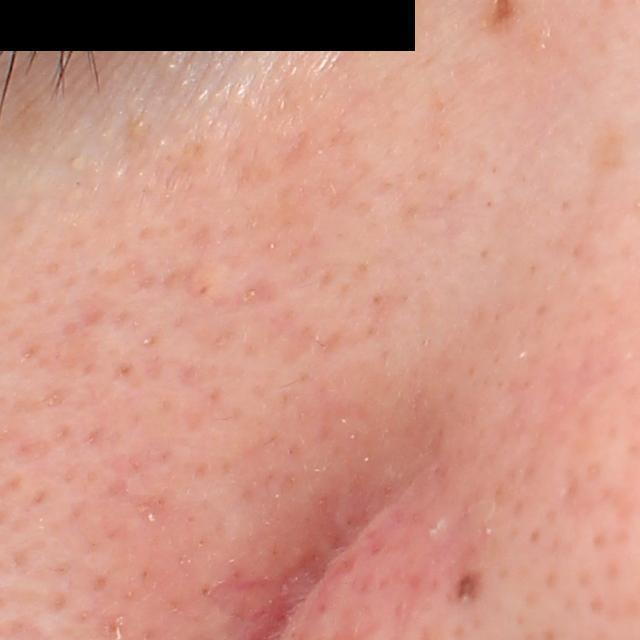nevus: (450, 572, 484, 608)
